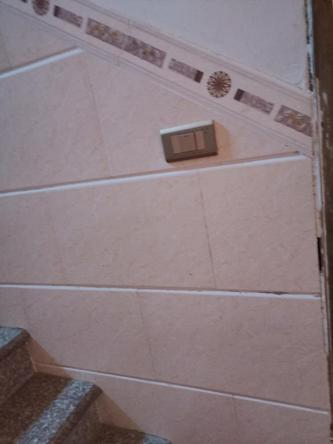switch: (174, 130, 205, 151)
